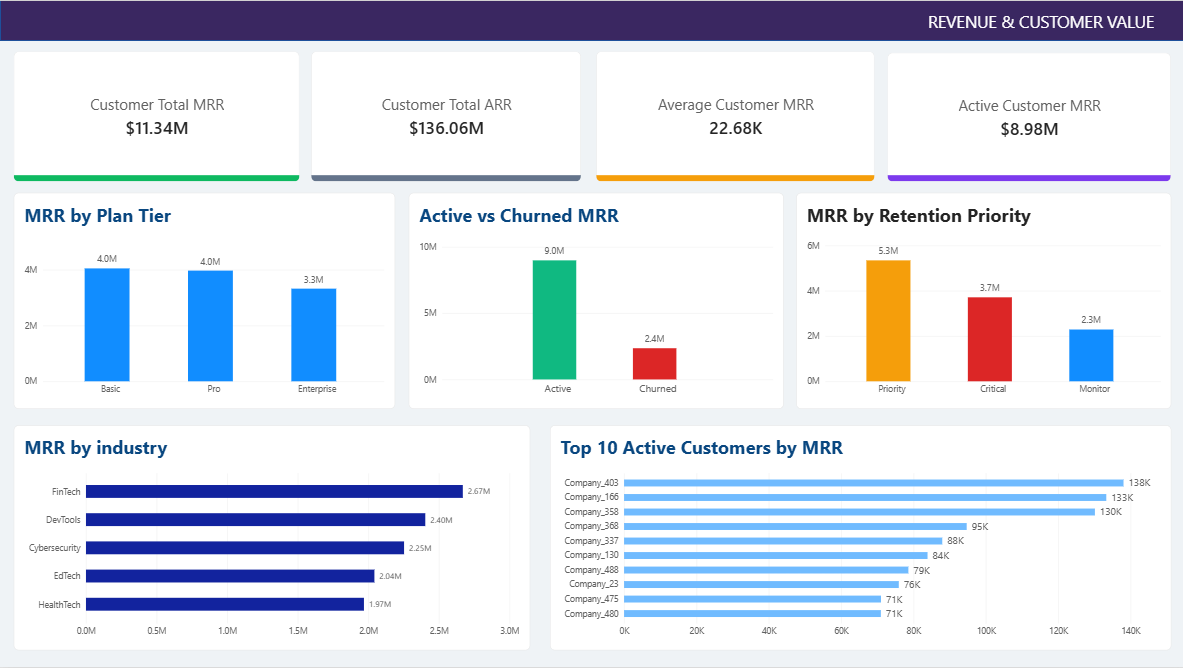

This screenshot's page, from the dashboard's own definition file:
{"tool":"powerbi","page":{"name":"Revenue & Customer Value","canvas":[1920,1080],"ordinal":2},"visuals":[{"type":"cardVisual","fields":{"Data":["customer_analytics.Customer Total MRR"]},"box":[22.2,84.9,462.9,210.2],"z":0},{"type":"cardVisual","fields":{"Data":["customer_analytics.Customer Total ARR"]},"box":[503.3,84.9,436.6,210.2],"z":1},{"type":"cardVisual","fields":{"Data":["customer_analytics.Average Customer MRR"]},"box":[964.2,84.9,450.8,210.2],"z":2},{"type":"cardVisual","fields":{"Data":["customer_analytics.Active Customer MRR"]},"box":[1435.3,86.9,458.9,208.2],"z":3},{"type":"clusteredColumnChart","title":" MRR by Plan Tier","fields":{"Category":["customer_analytics.plan_tier"],"Y":["Sum(customer_analytics.total_mrr)"]},"box":[22.2,313.3,616.6,349.7],"z":4},{"type":"clusteredBarChart","title":"MRR by industry","fields":{"Y":["Sum(customer_analytics.total_mrr)"],"Category":["customer_analytics.industry"]},"box":[22.2,689.3,834.9,363.9],"z":5},{"type":"clusteredBarChart","title":"Top 10 Active Customers by MRR","fields":{"Category":["customer_analytics.account_name"],"Y":["Sum(customer_analytics.total_mrr)"]},"box":[889.5,689.3,1004.7,363.9],"z":6},{"type":"clusteredColumnChart","title":"Active vs Churned MRR","fields":{"Y":["Sum(subscriptions_cleaned.mrr_amount)"],"Category":["customer_analytics.customer_status"]},"box":[661,313.3,606.4,349.7],"z":7},{"type":"clusteredColumnChart","title":"MRR by Retention Priority","fields":{"Category":["customer_analytics.retention_priority"],"Y":["Sum(customer_analytics.total_mrr)"]},"box":[1287.7,313.3,606.4,349.7],"z":8},{"type":"shape","box":[0,0,1920.4,67.9],"z":9},{"type":"textbox","box":[0,0,1920.4,68.7],"z":10}]}

Visuals, with their boxes in screenshot pixels (x1, y1, x2, y2), scaled from the page's 1920x1080 canvas onto the 1183x668 screenshot:
cardVisual - customer_analytics.Customer Total MRR: [x1=14, y1=53, x2=299, y2=183]
cardVisual - customer_analytics.Customer Total ARR: [x1=310, y1=53, x2=579, y2=183]
cardVisual - customer_analytics.Average Customer MRR: [x1=594, y1=53, x2=872, y2=183]
cardVisual - customer_analytics.Active Customer MRR: [x1=884, y1=54, x2=1167, y2=183]
" MRR by Plan Tier" clusteredColumnChart: [x1=14, y1=194, x2=394, y2=410]
"MRR by industry" clusteredBarChart: [x1=14, y1=426, x2=528, y2=651]
"Top 10 Active Customers by MRR" clusteredBarChart: [x1=548, y1=426, x2=1167, y2=651]
"Active vs Churned MRR" clusteredColumnChart: [x1=407, y1=194, x2=781, y2=410]
"MRR by Retention Priority" clusteredColumnChart: [x1=793, y1=194, x2=1167, y2=410]
shape: [x1=0, y1=0, x2=1182, y2=42]
textbox: [x1=0, y1=0, x2=1182, y2=42]
